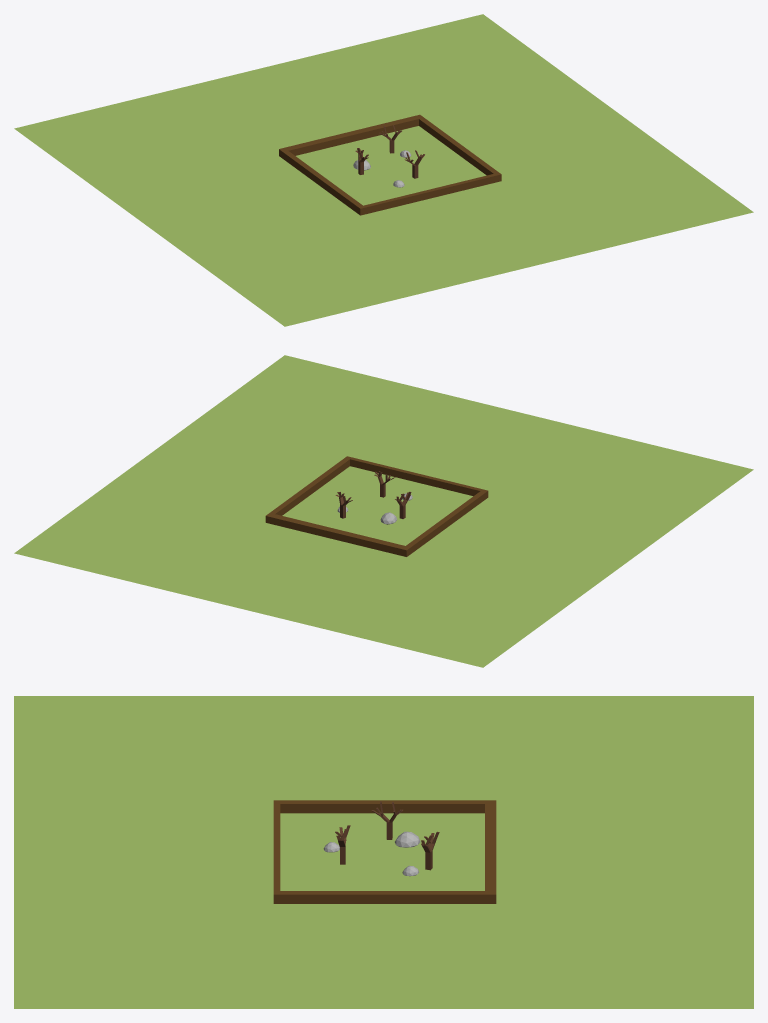
Rendered from forest-transformed.glb.
The picture shows the model from 3 angles, top to bottom: view 1: azimuth 30°, elevation 25°; view 2: azimuth 150°, elevation 25°; view 3: azimuth 270°, elevation 25°; orthographic projection. The views are drawn at different scales.
Parts seen in each view (by area): view 1: Ground; view 2: Ground; view 3: Ground.
Part boxes in pixels (<box>): Ground: <box>14,14,753,326</box>; Ground: <box>14,355,753,667</box>; Ground: <box>14,696,753,1008</box>.
Size of the model in its own units: 32.36 by 1.69 by 32.36.
1 material, 1 textured.
